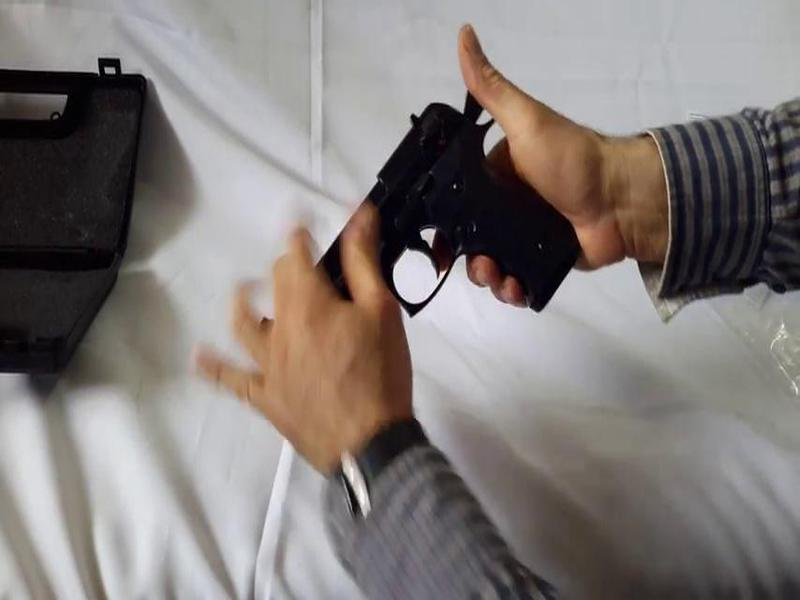Pistola: (233, 79, 582, 381)
